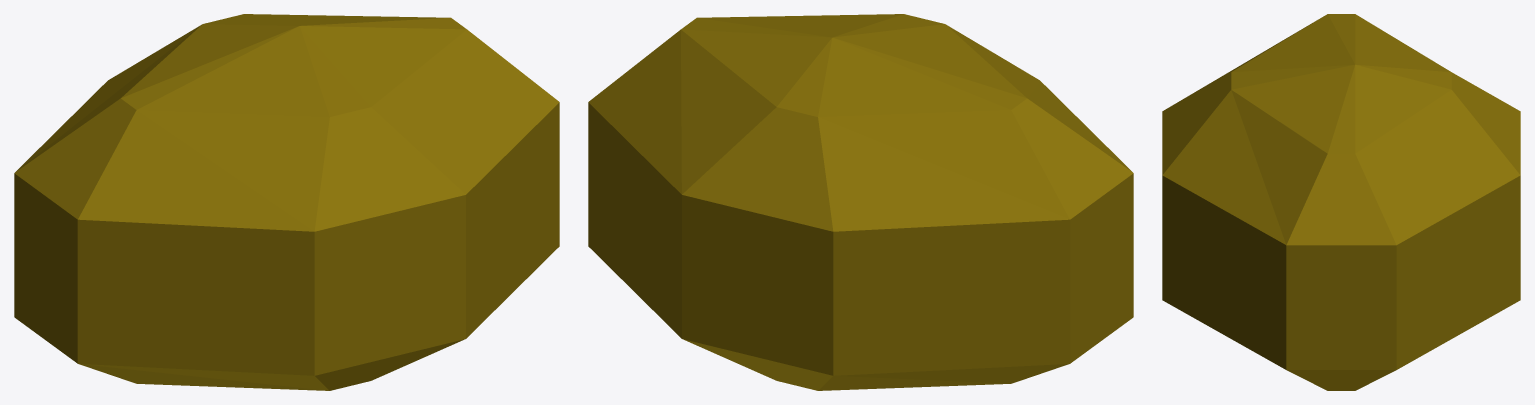
Rendered from inv_potato.obj.
3 views of the same model, side by side, from view 1: azimuth 30°, elevation 25°; view 2: azimuth 150°, elevation 25°; view 3: azimuth 270°, elevation 25° (orthographic). The views are drawn at different scales.
Bounding box in the file's own units: 0.2734 × 0.1641 × 0.2031.
